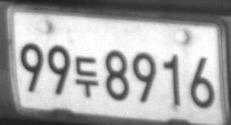1: (161, 54, 186, 106)
6: (189, 57, 215, 109)
8: (104, 49, 129, 101)
9: (131, 51, 157, 102), (19, 41, 44, 92), (46, 44, 71, 95)
두: (74, 55, 99, 97)
